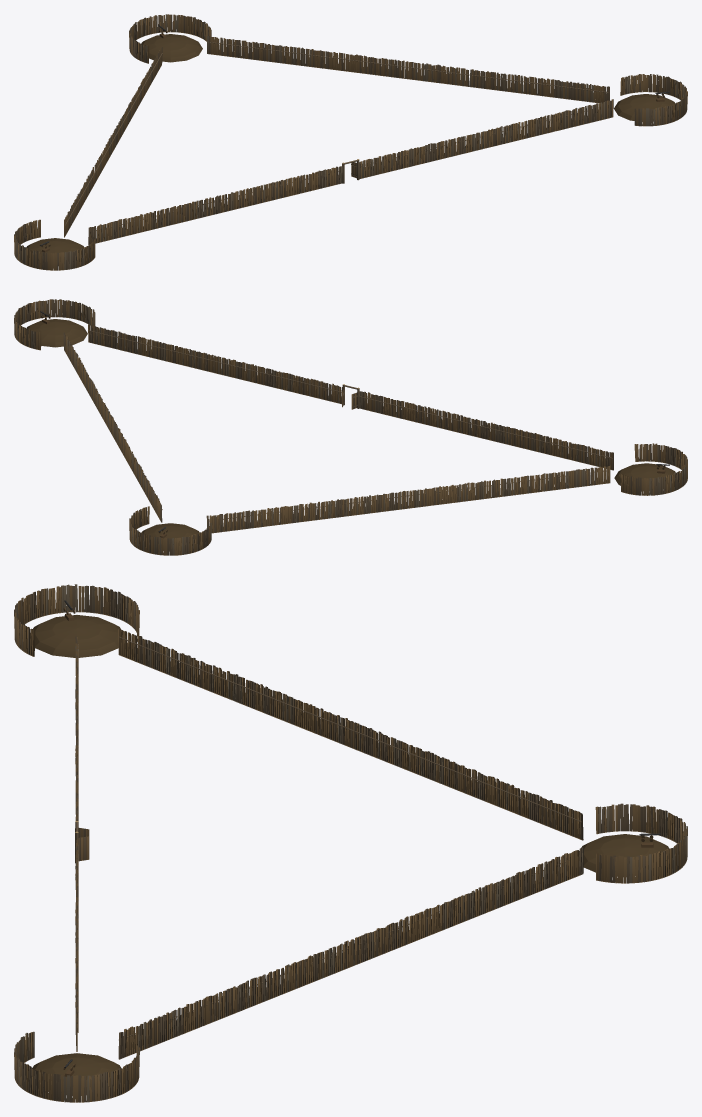
Rendered from fort_palisade.glb.
3 views of the same model, one above another, from view 1: azimuth 30°, elevation 25°; view 2: azimuth 150°, elevation 25°; view 3: azimuth 270°, elevation 25° (orthographic). The views are drawn at different scales.
Visible parts, largest first — view 1: palisade_river, palisade_east, bulwark_n, bulwark_se, bulwark_sw, palisade_west; view 2: palisade_river, palisade_west, bulwark_se, bulwark_sw, bulwark_n, palisade_east; view 3: palisade_east, palisade_west, bulwark_sw, bulwark_n, bulwark_se, palisade_river.
Boxes of the visible parts, <box> form: palisade_river: <box>88,99,613,245</box>; palisade_east: <box>207,36,609,103</box>; bulwark_n: <box>129,14,211,63</box>; bulwark_se: <box>614,74,687,126</box>; bulwark_sw: <box>14,219,95,270</box>; palisade_west: <box>64,47,162,237</box>; palisade_river: <box>88,324,613,470</box>; palisade_west: <box>206,466,610,533</box>; bulwark_se: <box>14,299,95,350</box>; bulwark_sw: <box>614,443,687,495</box>; bulwark_n: <box>129,506,211,555</box>; palisade_east: <box>63,332,162,522</box>; palisade_east: <box>118,847,583,1059</box>; palisade_west: <box>118,629,583,840</box>; bulwark_sw: <box>14,584,139,657</box>; bulwark_n: <box>579,803,687,883</box>; bulwark_se: <box>14,1031,139,1102</box>; palisade_river: <box>75,636,78,1051</box>.
Bounding box in the file's own units: 471 × 13.7 × 273.
